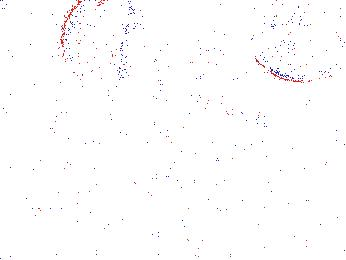moon jellyfish: (159, 111, 273, 184), (155, 1, 236, 73), (249, 23, 345, 83), (62, 1, 126, 90)
